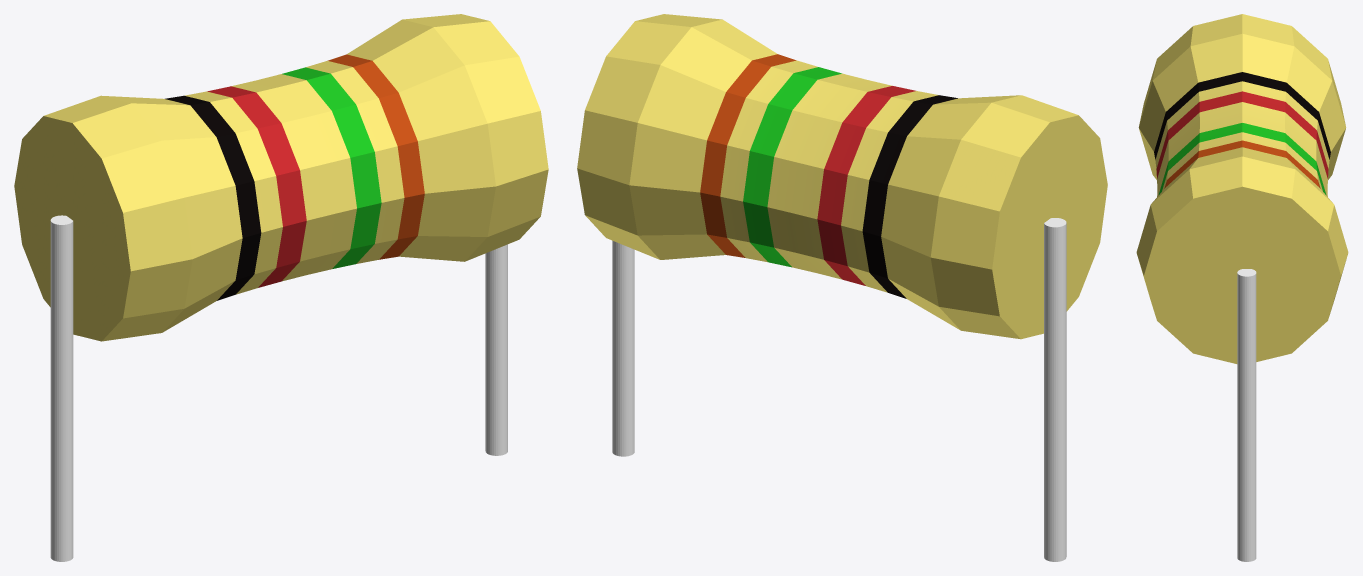
File: 3D_Resistance.fbx
3 renders of one model, left to right at view 1: azimuth 30°, elevation 25°; view 2: azimuth 150°, elevation 25°; view 3: azimuth 270°, elevation 25°, orthographic. The views are drawn at different scales.
Visible parts, largest first — view 1: Cylinder_003, Cylinder_007, Cylinder_006; view 2: Cylinder_003, Cylinder_007, Cylinder_006; view 3: Cylinder_003, Cylinder_006.
Boxes of the visible parts, box(x1,y1,x2,y2) form: Cylinder_003: box(14, 14, 548, 341); Cylinder_007: box(50, 215, 73, 561); Cylinder_006: box(485, 244, 507, 455); Cylinder_003: box(577, 14, 1107, 339); Cylinder_007: box(1044, 218, 1066, 561); Cylinder_006: box(612, 240, 634, 456); Cylinder_003: box(1136, 14, 1348, 363); Cylinder_006: box(1237, 269, 1256, 561).
Size of the model in its own units: 14.49 by 13.47 by 6.91.
